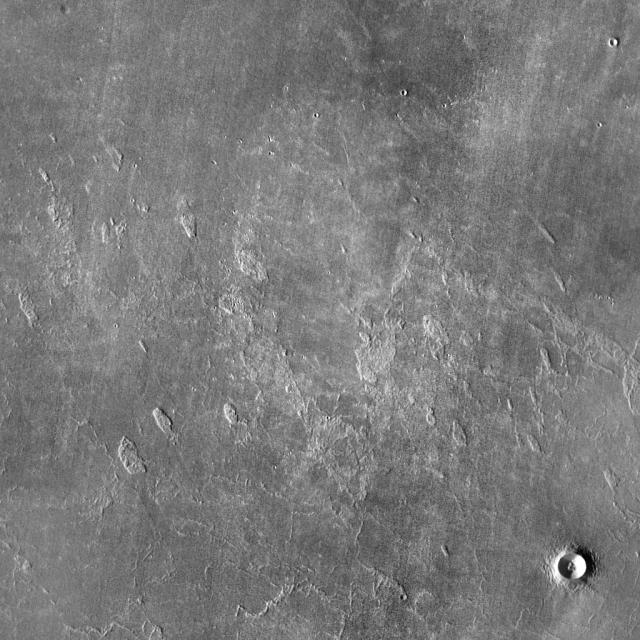crater: (562, 552, 592, 578), (66, 2, 76, 12), (615, 37, 623, 44)
